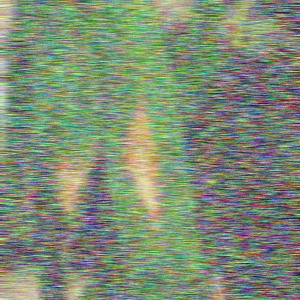Brown_Spot: (118, 88, 177, 234), (32, 155, 96, 224)
